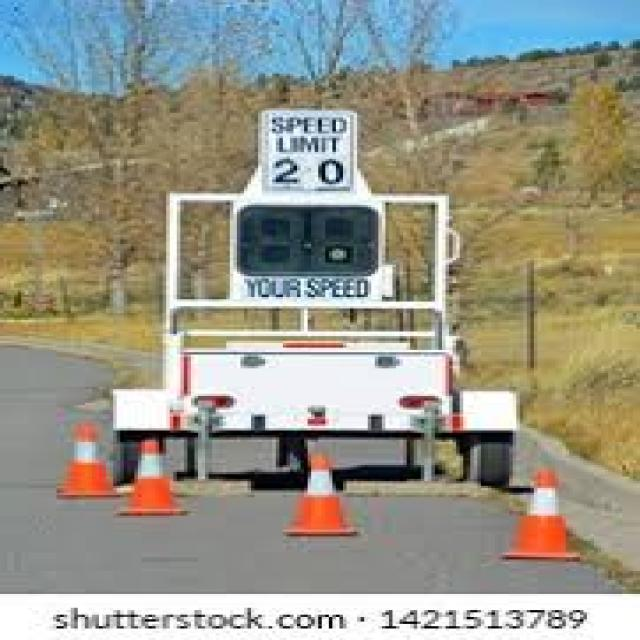speedLimit20: (264, 107, 348, 190)
